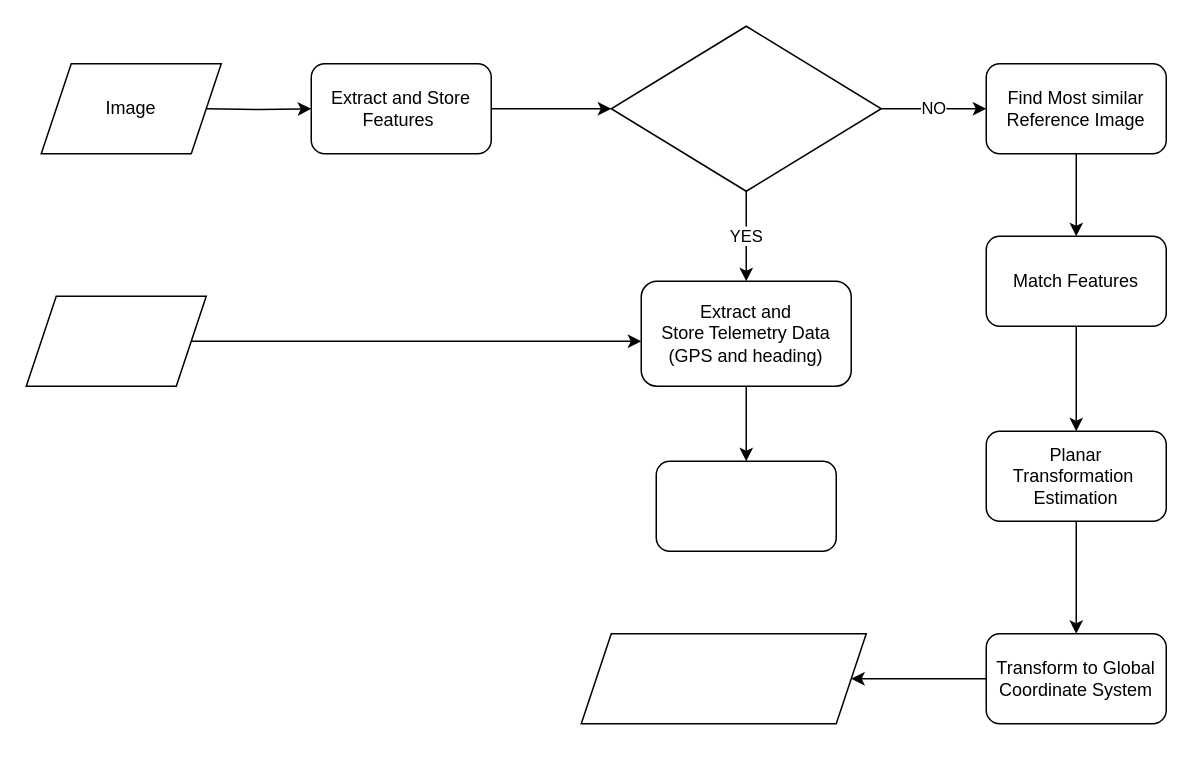
This 1193x759 diagram has some shape labels left out. The shapes that lost their labels are listed below. From the top down, each one's centre as x and y in pixels, then its label:
the point at 745,108: IF GPS_AVAILABLE
the point at 115,340: Telemetry Data
the point at 745,505: Dynamic Inferrence
the point at 723,678: Output Heading and GPS estimation
